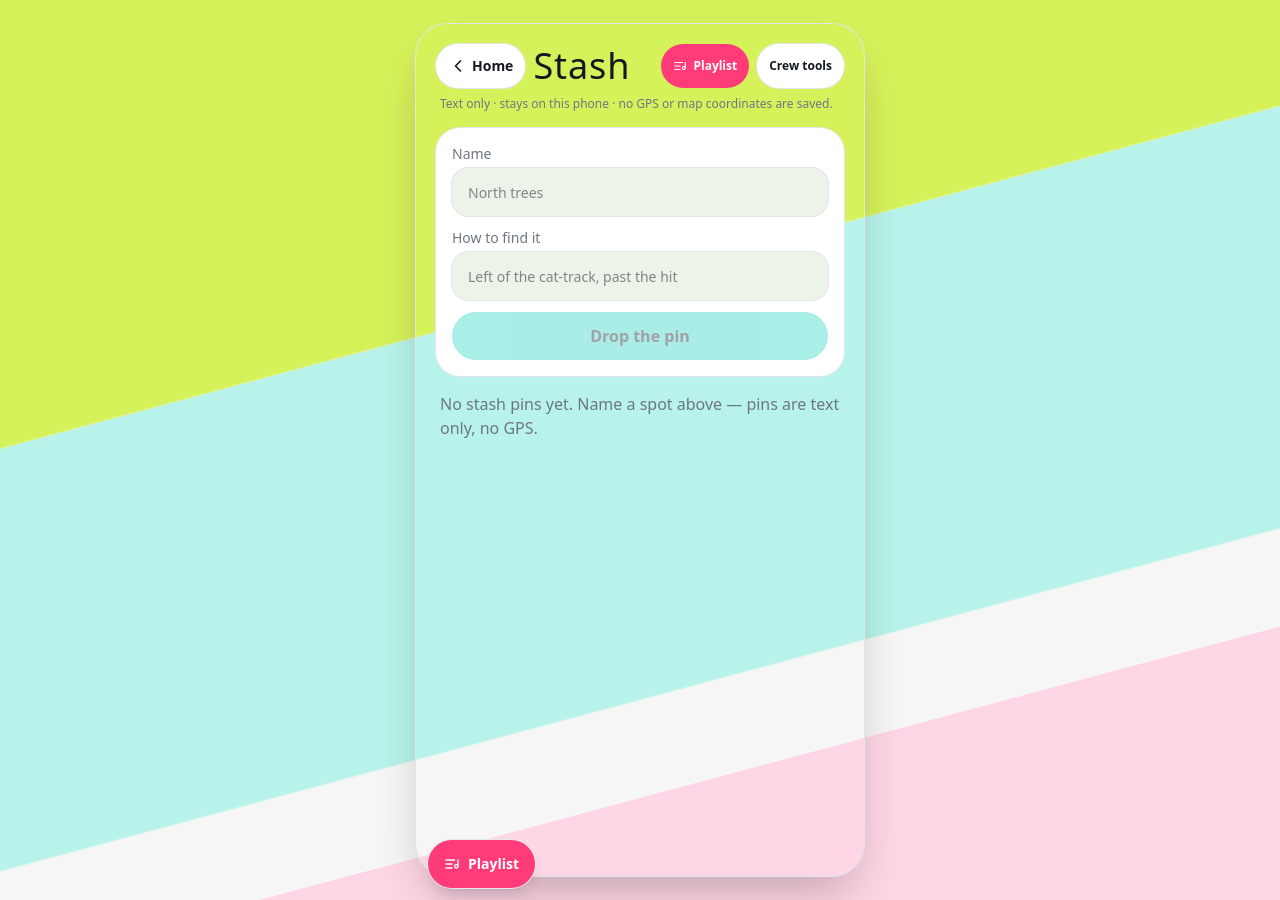
Stash screen › coordinate input shows plain error, saves nothing
This screenshot has width=1280, height=900.
Type "44.2706, -71.3033" into the field named "Stash name" at (640, 192), box [452,168,828,216]
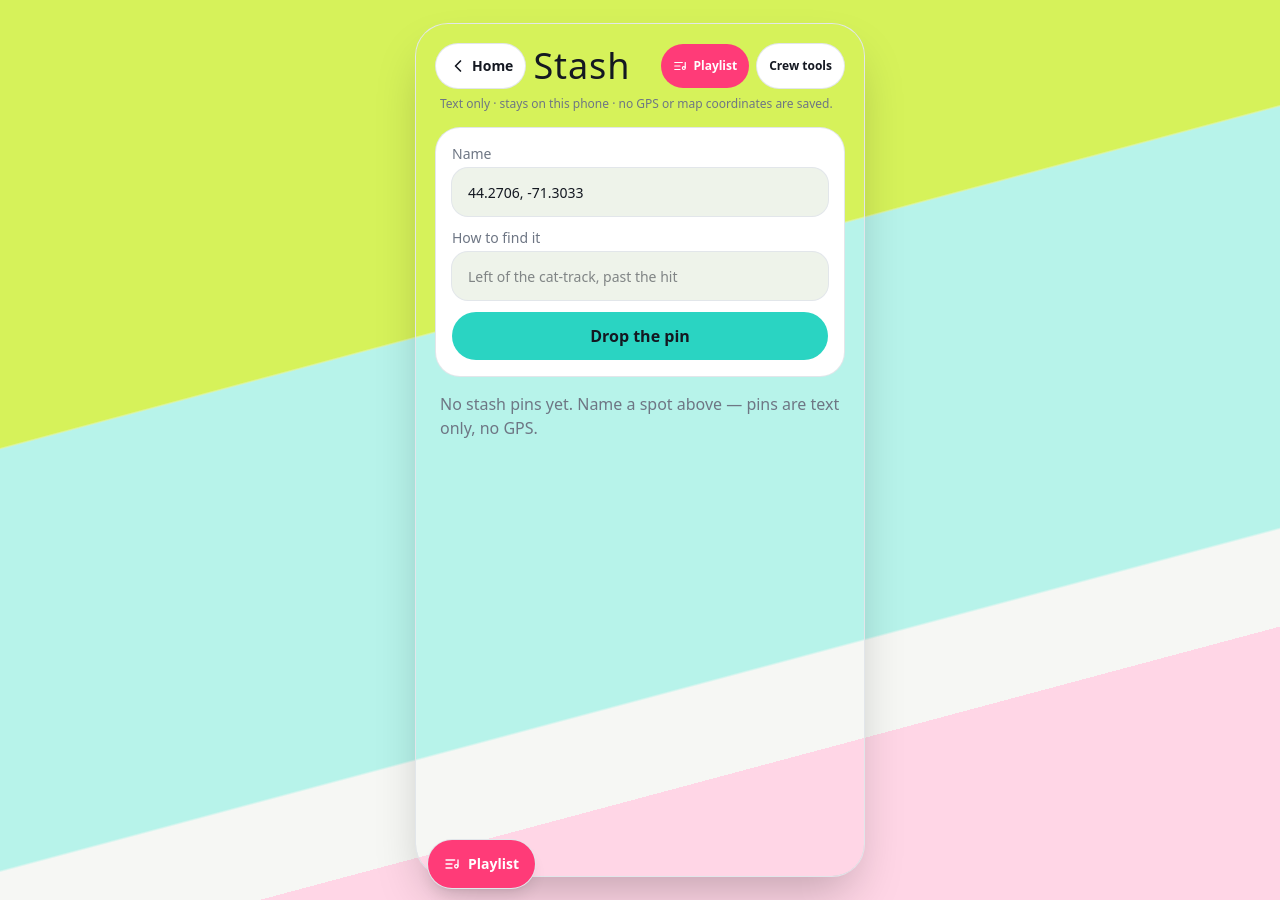
Click the button "Drop the pin" at (640, 336), box [452,312,828,360]
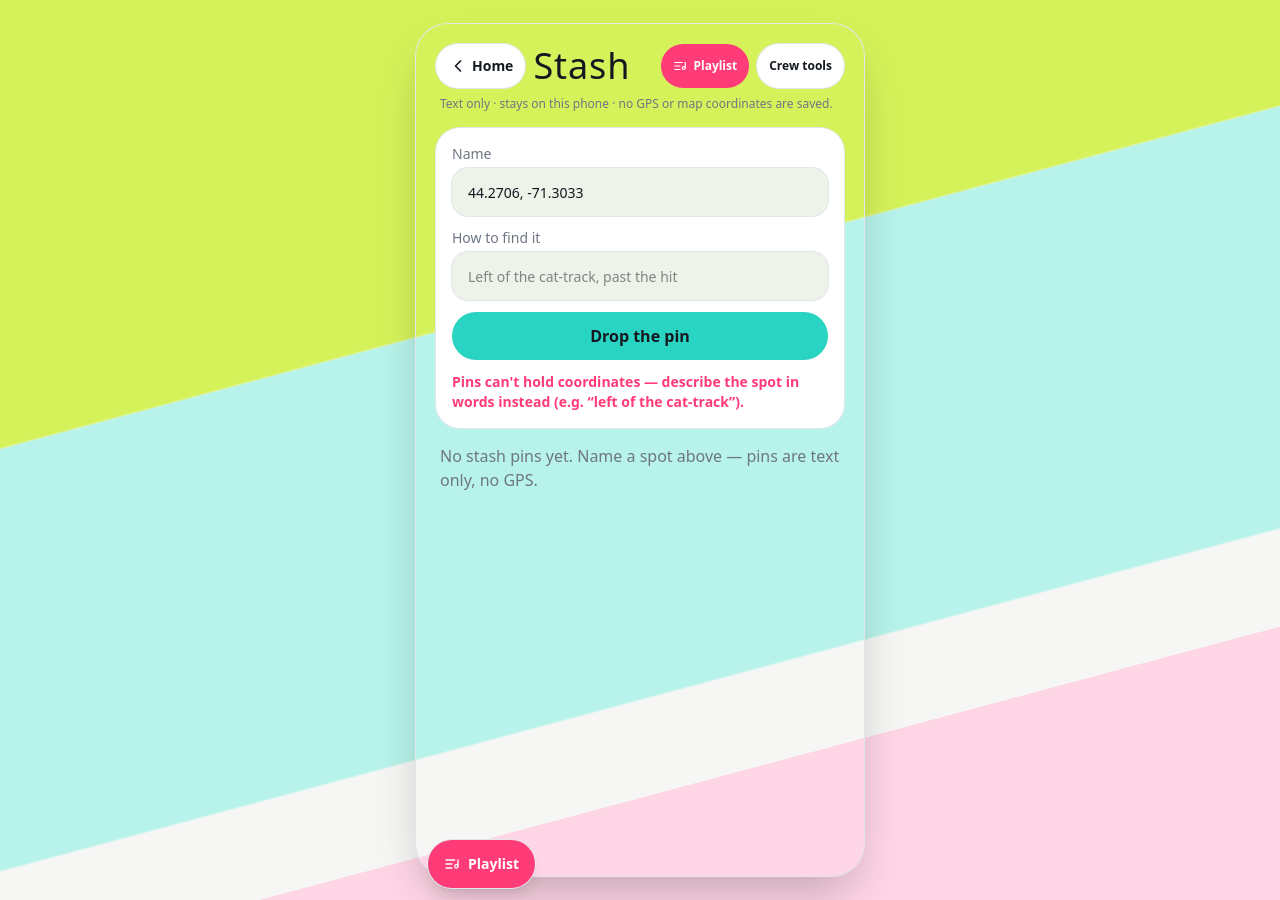
Now the message with test id "stash-error" shows "Pins can't hold coordinates — describe the spot in words instead (e.g. “left of the cat-track”).", box [452,372,799,411]
